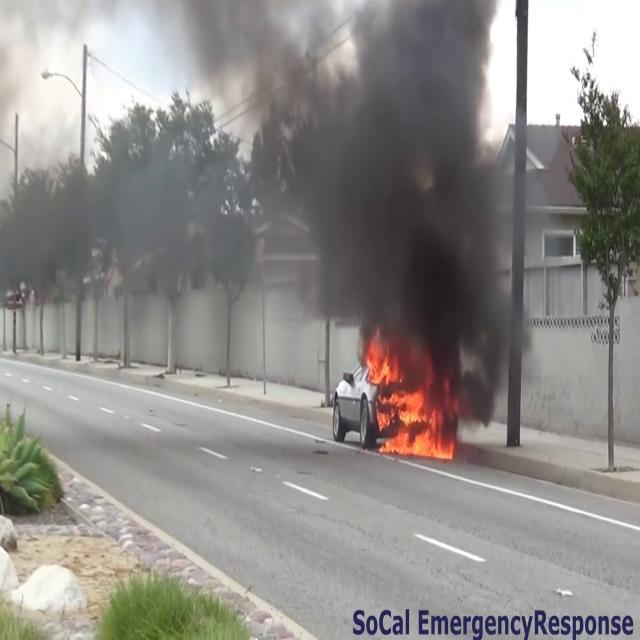Fire: (363, 337, 452, 463)
Smoke: (172, 1, 532, 358)
